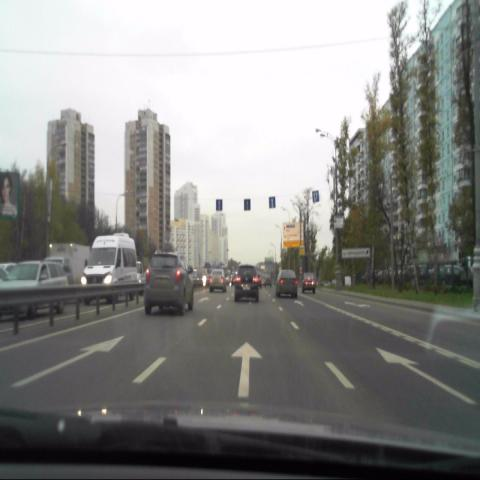5_15_2: (268, 196, 276, 208), (216, 199, 222, 210), (244, 199, 250, 210)
5_15_3: (312, 191, 319, 202)
